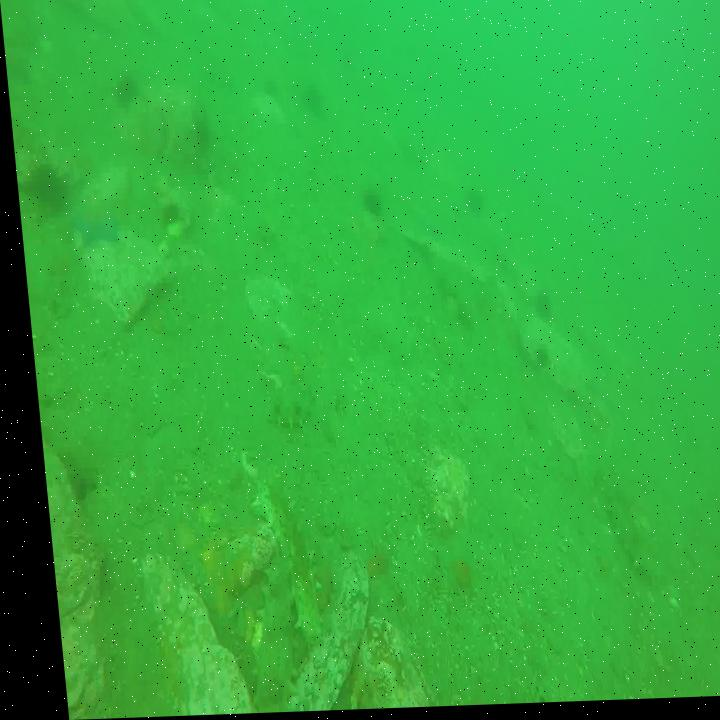echinus: (24, 160, 61, 209), (158, 198, 179, 235), (111, 73, 133, 104), (524, 294, 545, 324), (460, 189, 481, 218), (523, 345, 544, 373), (359, 185, 375, 220)
holothurian: (241, 478, 313, 651), (231, 567, 289, 715), (596, 493, 646, 584), (254, 390, 310, 432)
starfish: (68, 201, 120, 241)
